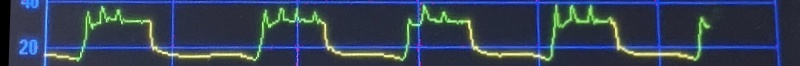hydrop_pressure: (30, 0, 707, 66)
